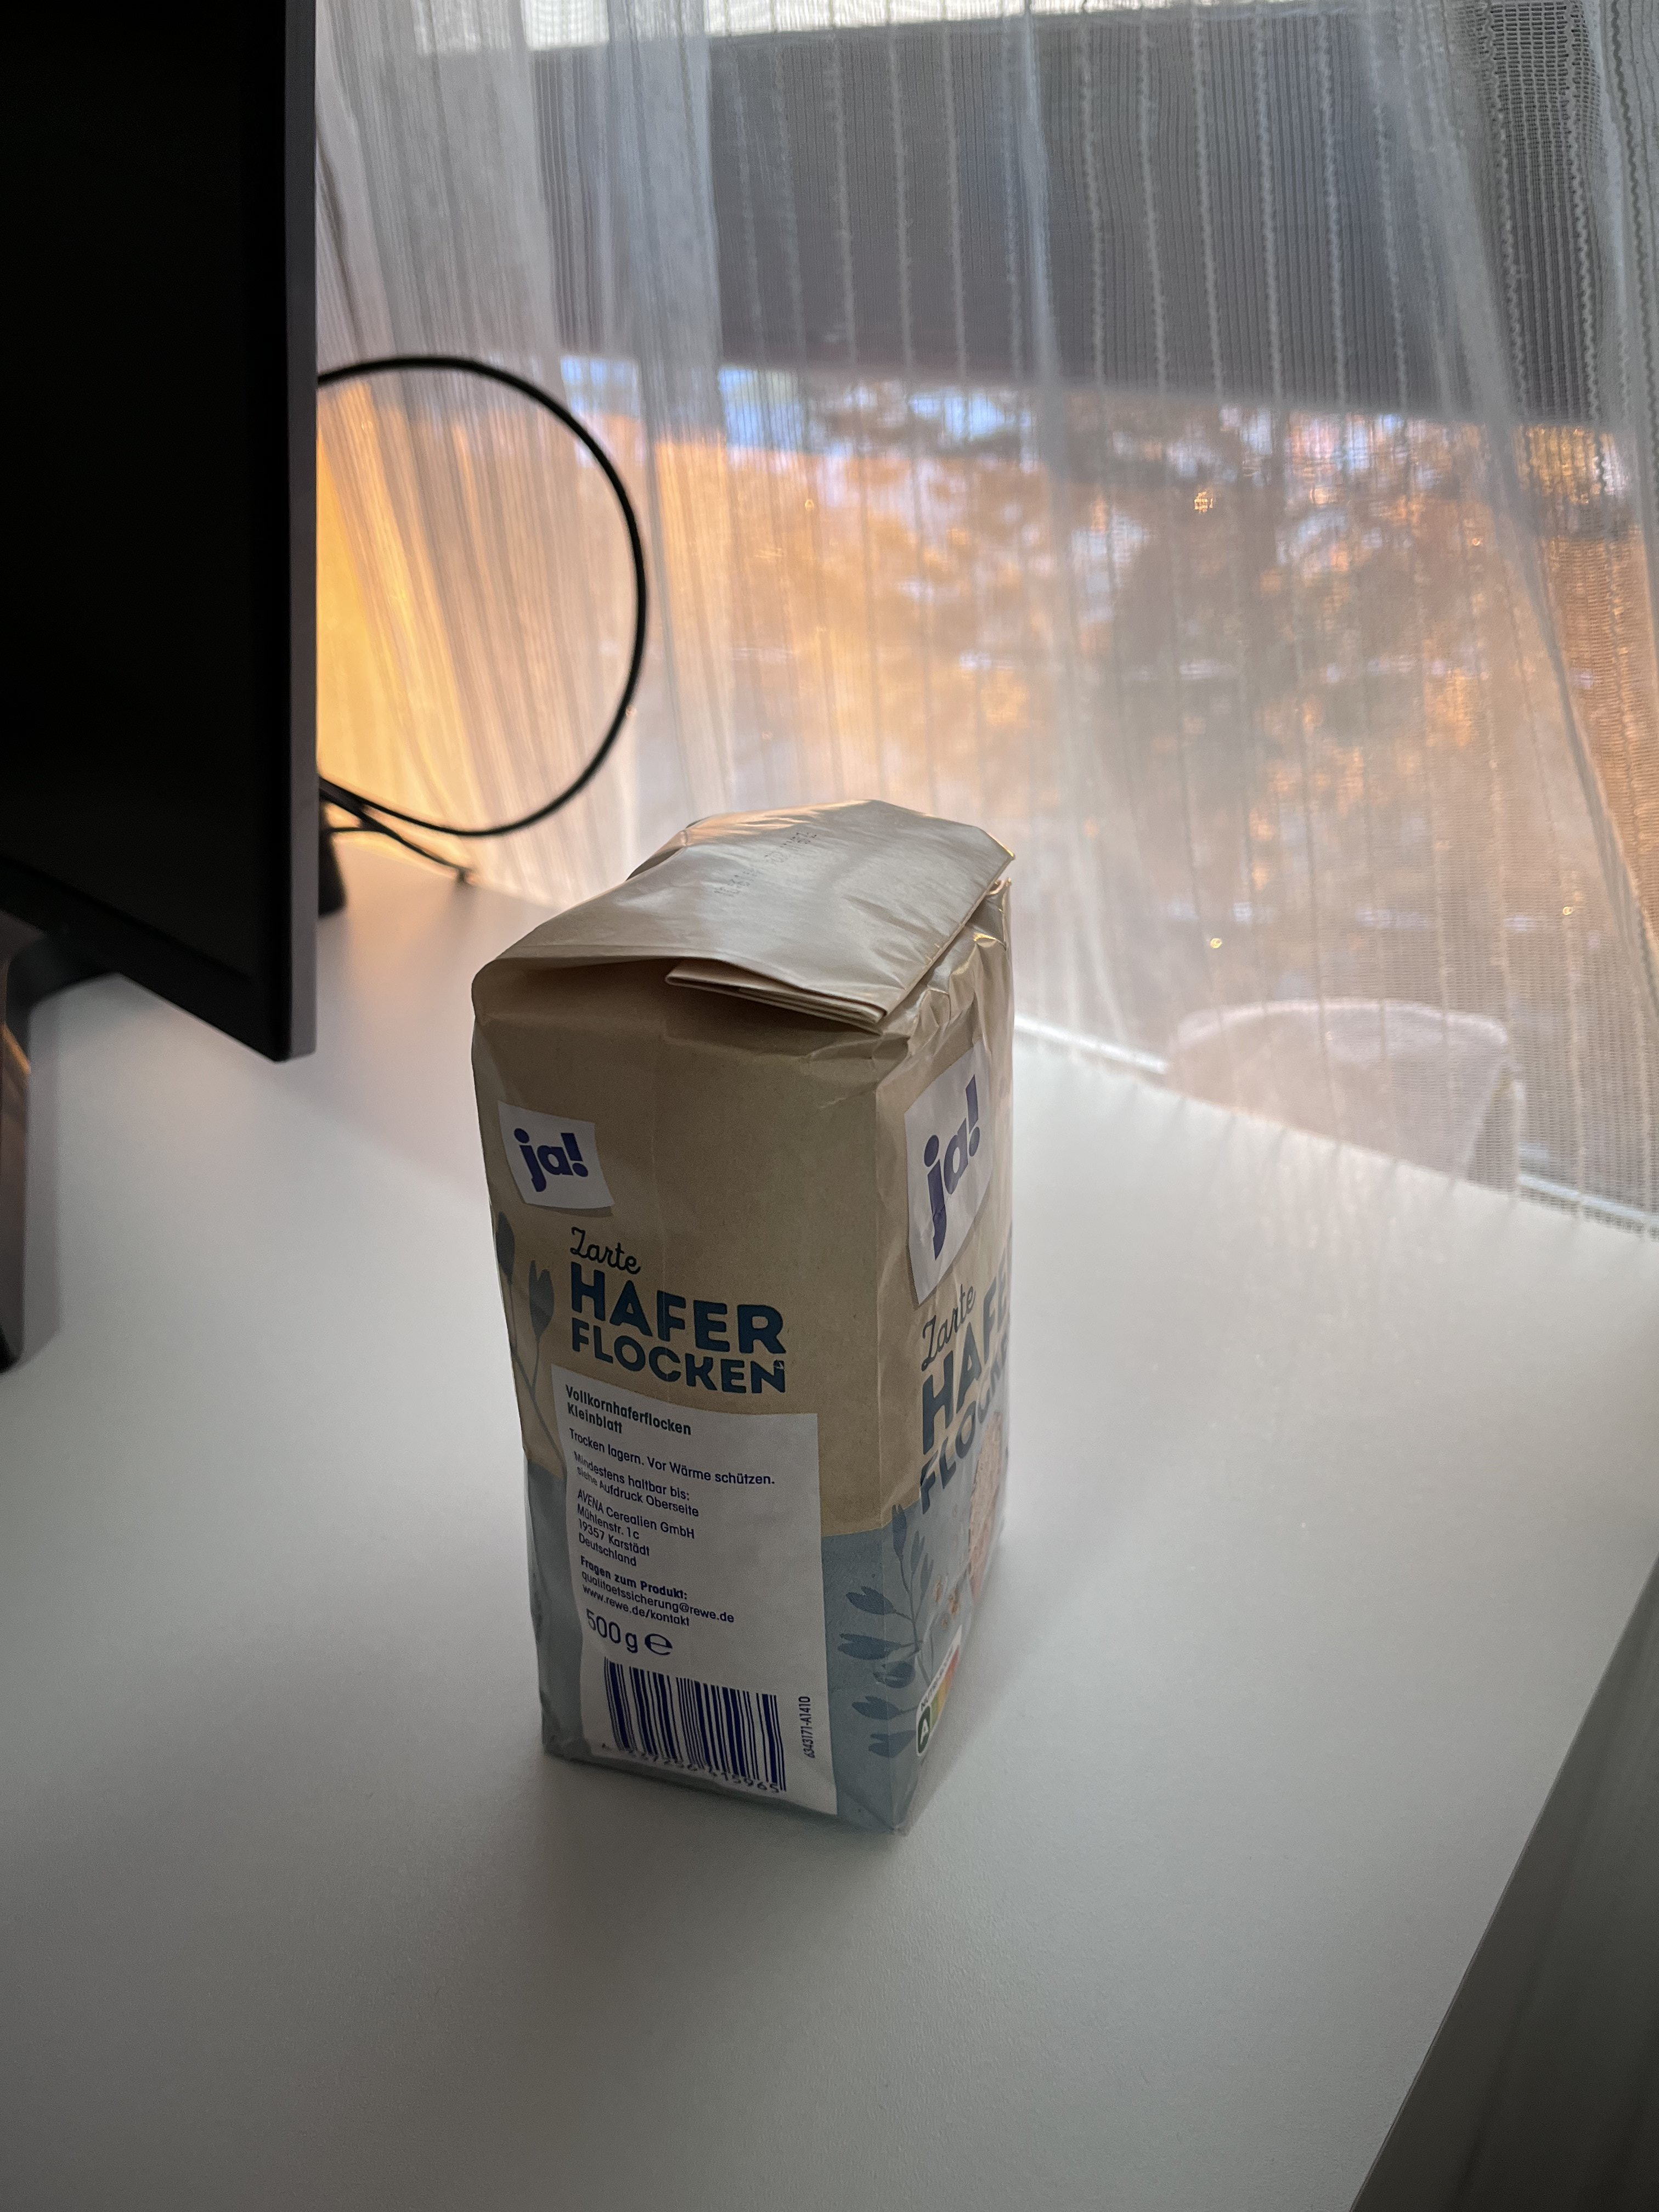haferflocken_ja: (469, 801, 1018, 1843)
